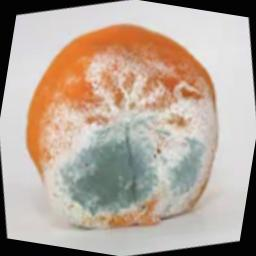Orange Rotten: (10, 35, 244, 236)
